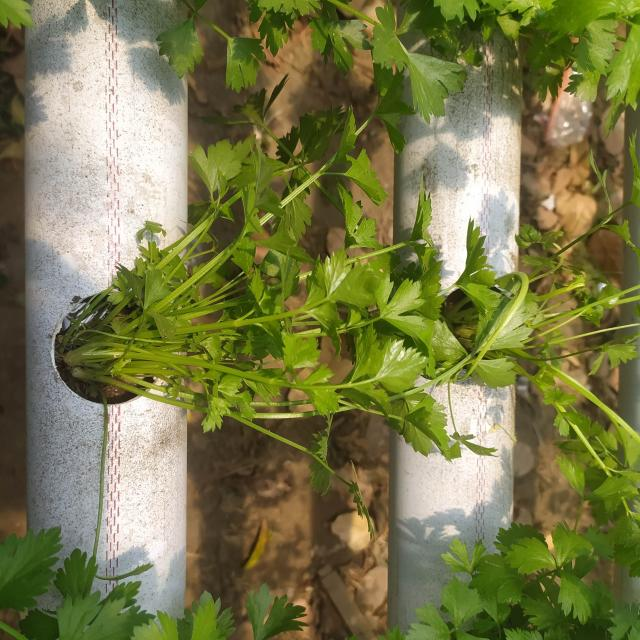Wet Waste: (136, 104, 511, 563), (524, 7, 640, 231)
